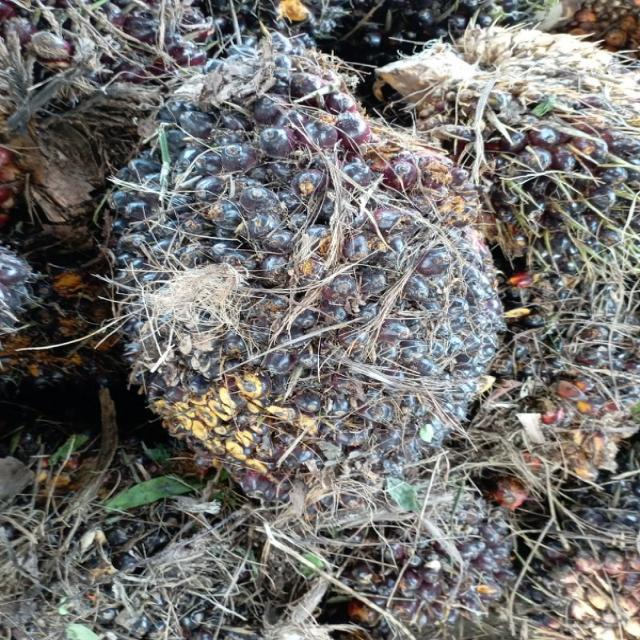fraksi 00: (66, 34, 536, 522)
